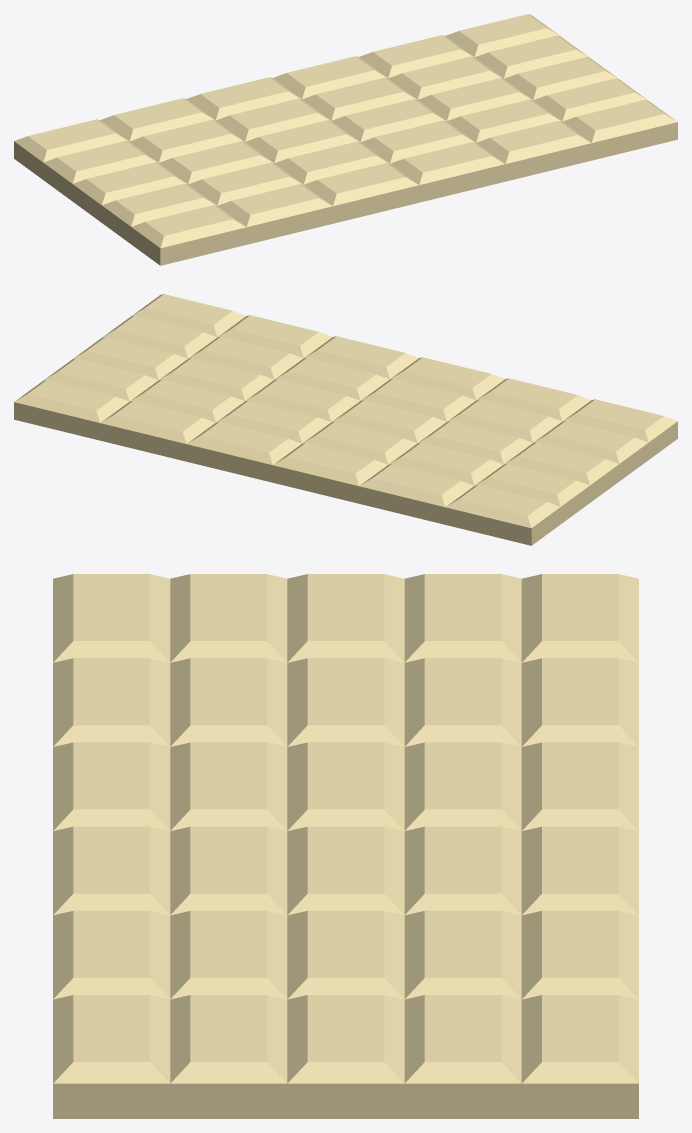
The model's file is CandylandChocolateBarWhite.fbx.
3 renders of one model, top to bottom at view 1: azimuth 30°, elevation 25°; view 2: azimuth 150°, elevation 25°; view 3: azimuth 270°, elevation 25°, orthographic. The views are drawn at different scales.
Visible parts, largest first — view 1: CandylandChocolateBarWhite; view 2: CandylandChocolateBarWhite; view 3: CandylandChocolateBarWhite.
Boxes of the visible parts, <box> form: CandylandChocolateBarWhite: <box>14,14,677,265</box>; CandylandChocolateBarWhite: <box>14,294,677,545</box>; CandylandChocolateBarWhite: <box>53,574,638,1118</box>.
Bounding box in the file's own units: 1.34 × 0.0598 × 0.6568.
